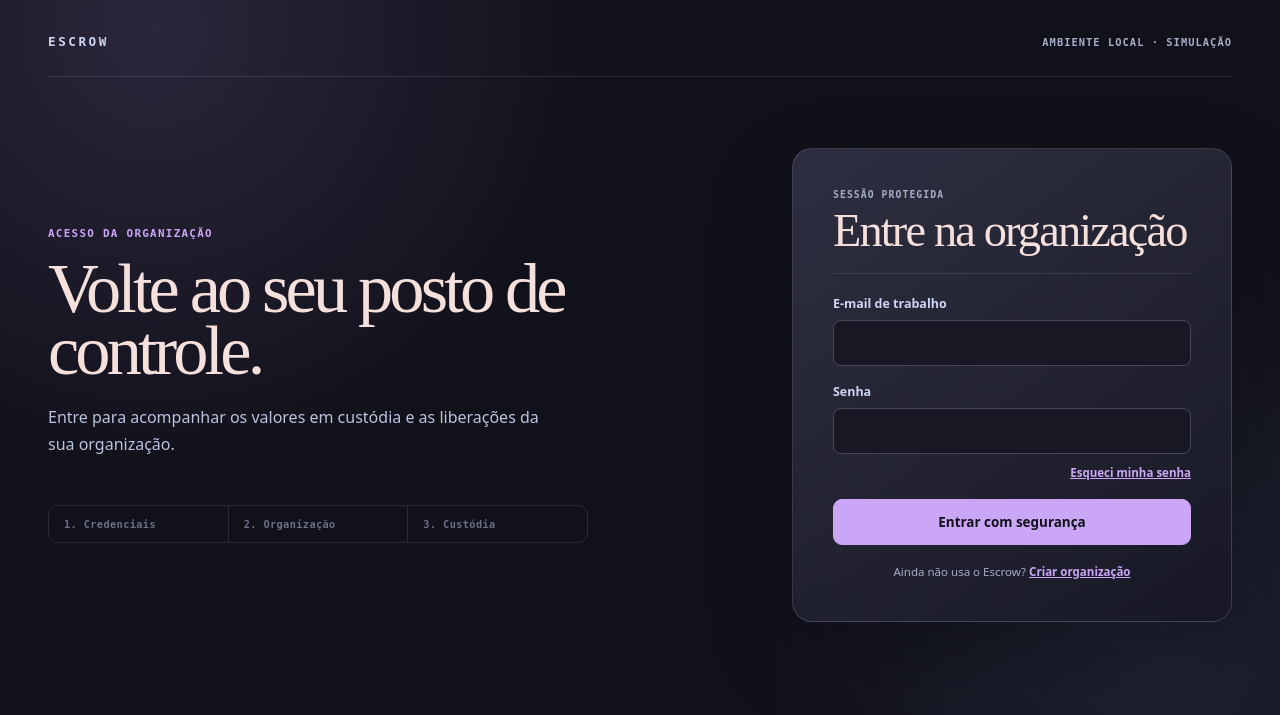
Test: acesso da organização › permite que um membro entre com uma sessão protegida
The width and height of the screenshot is (1280, 715).
Type "finance@horizonte.test" into the field labelled "E-mail de trabalho".
click(1012, 343); type("finance@horizonte.test")  # box [833,320,1191,366]
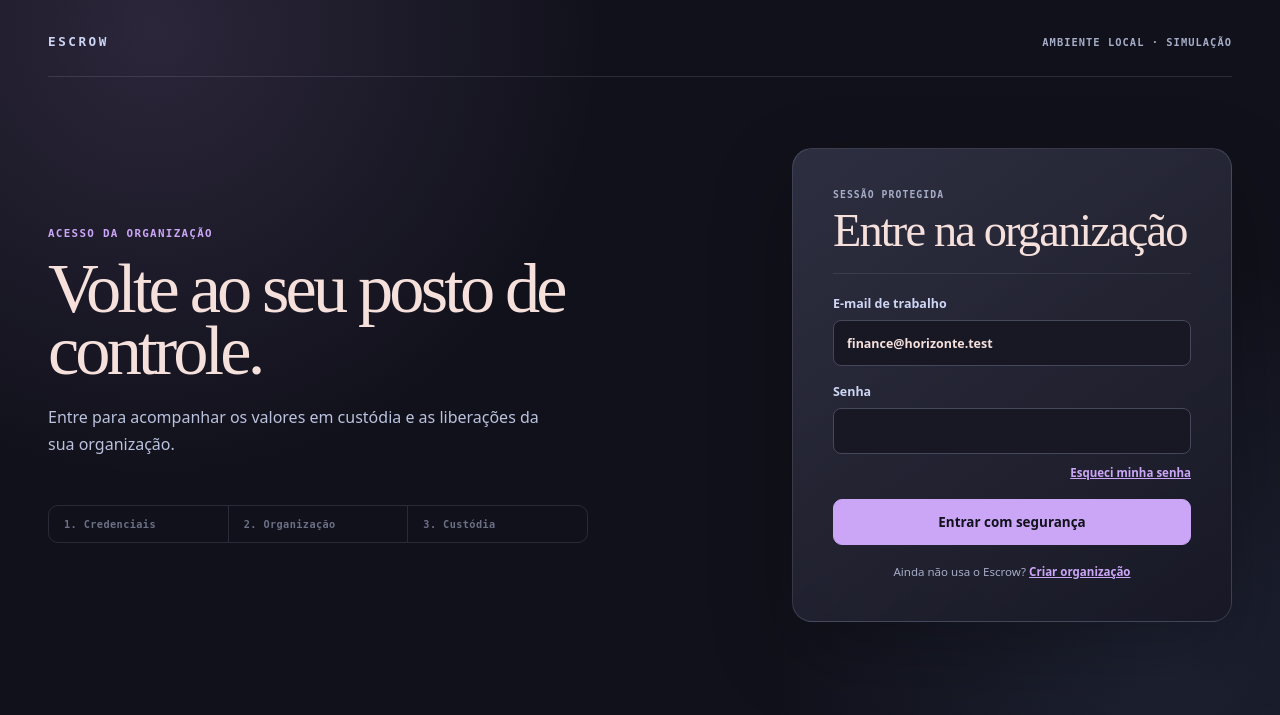
Type "UmaSenhaLonga#2026" into the password field labelled "Senha".
click(1012, 431); type("UmaSenhaLonga#2026")  # box [833,408,1191,454]
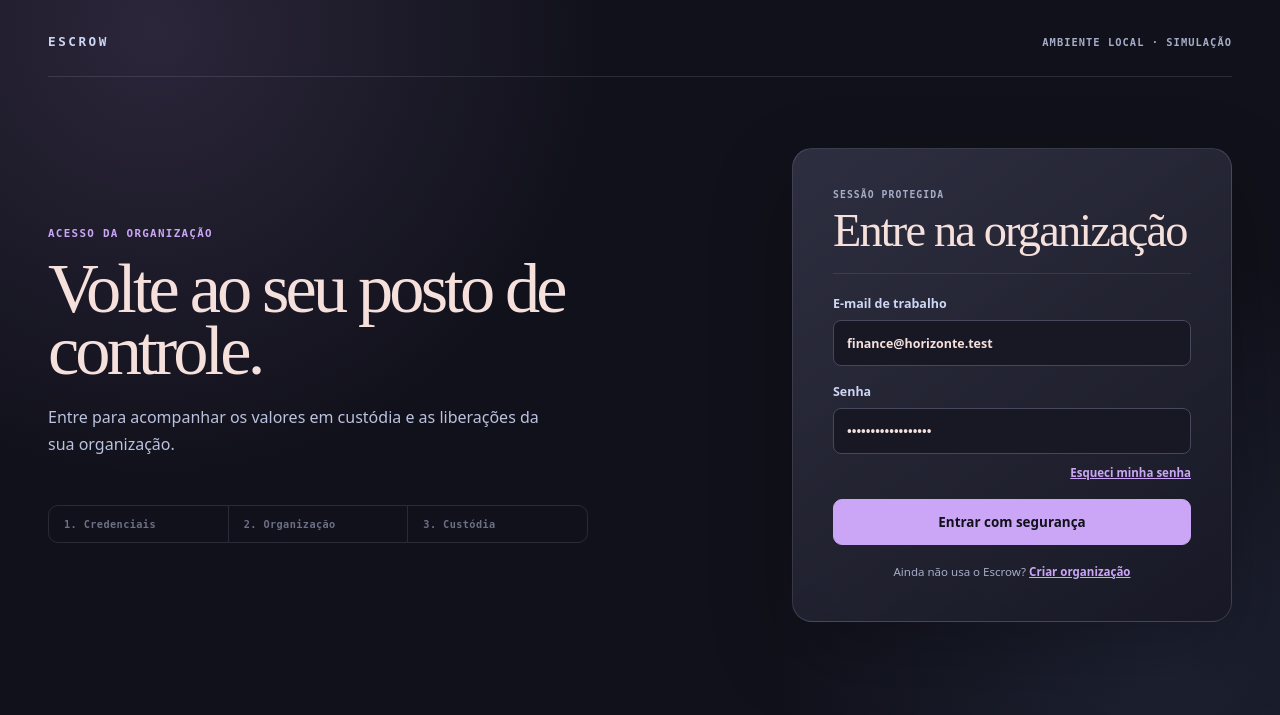
Click the button "Entrar com segurança".
click(1012, 522)  # box [833,499,1191,545]
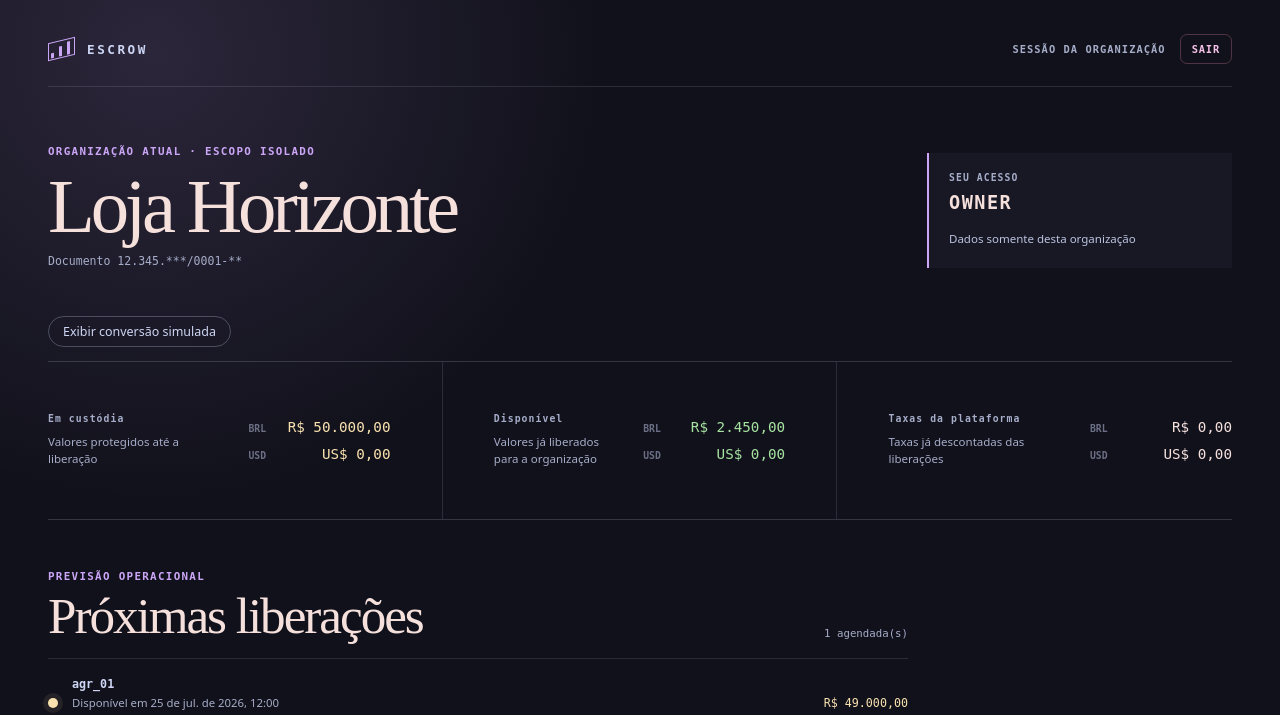
Now the heading "Loja Horizonte" is shown, box [48,164,456,249]
